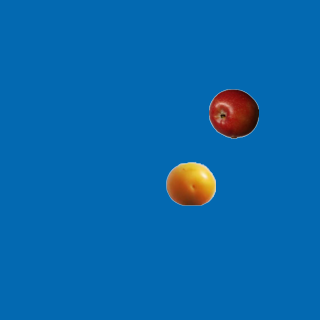Apple Braeburn: (208, 88, 258, 138)
Cherry Wax Yellow: (165, 158, 215, 208)
